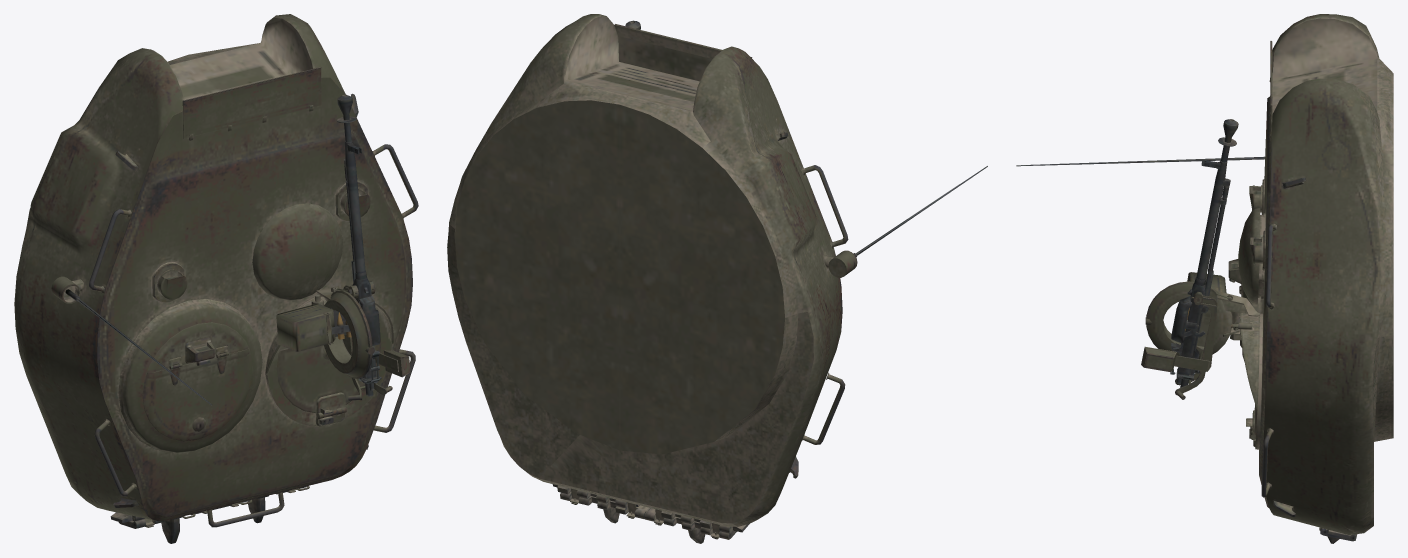
The model's file is Turret_02.glb.
The picture shows the model from 3 angles, left to right: view 1: azimuth 30°, elevation 25°; view 2: azimuth 150°, elevation 25°; view 3: azimuth 270°, elevation 25°; orthographic projection. The views are drawn at different scales.
Parts seen in each view (by area): view 1: set_0_group_0; view 2: set_0_group_0; view 3: set_0_group_0.
Part boxes in pixels (x1,y1,x2,y2): set_0_group_0: [14, 14, 418, 543]; set_0_group_0: [447, 14, 987, 543]; set_0_group_0: [1016, 14, 1393, 543].
Size of the model in its own units: 2.22 by 2.83 by 2.03.
1 material, 1 textured.
